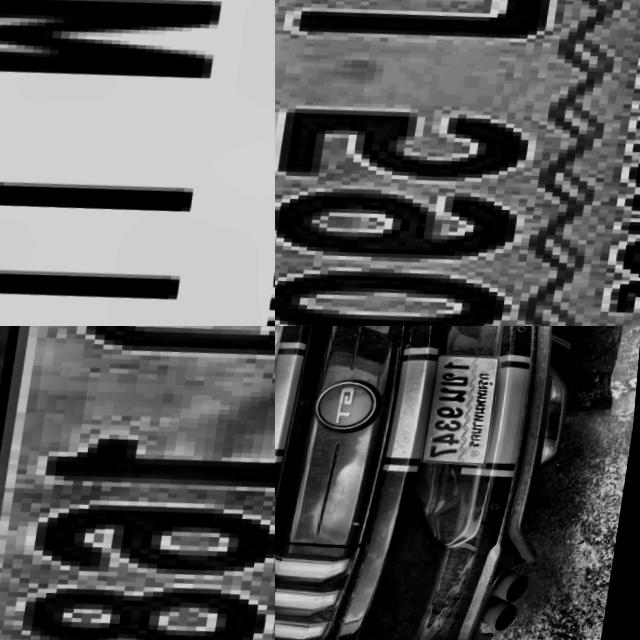license-plate: (275, 0, 640, 326), (0, 0, 275, 326), (0, 326, 275, 640), (424, 354, 508, 473)
